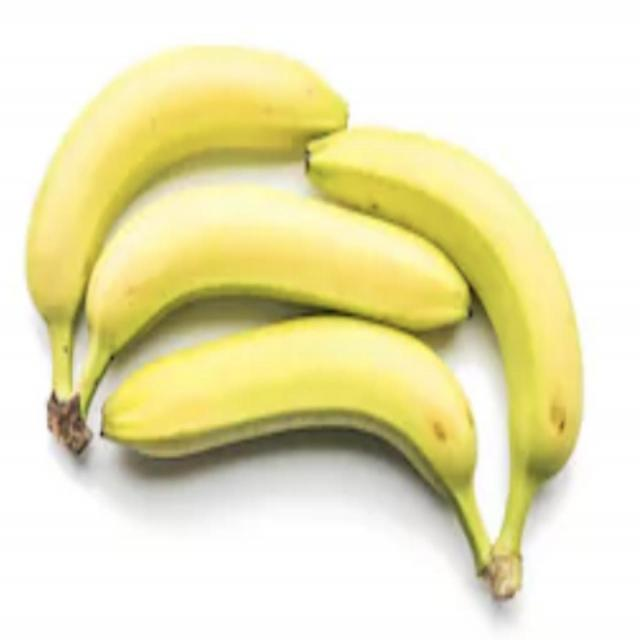banana: (312, 110, 602, 604), (92, 319, 529, 614), (4, 47, 354, 364), (69, 133, 484, 383)
